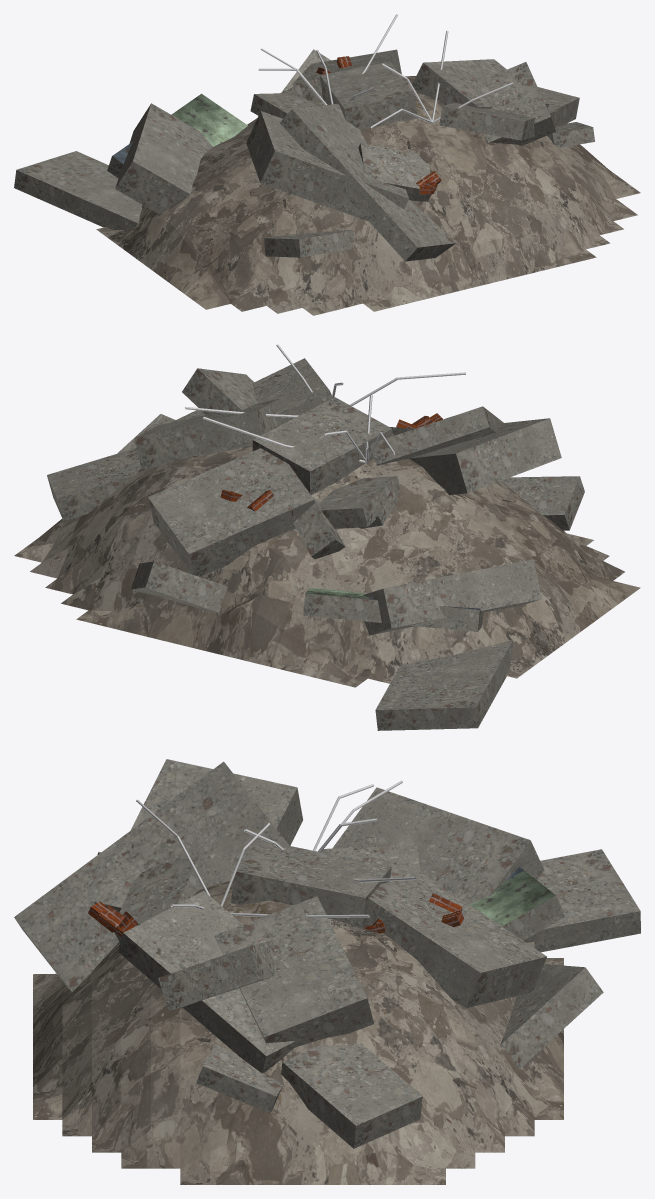
File: S1U_RubblePile_M.fbx
3 renders of one model, top to bottom at view 1: azimuth 30°, elevation 25°; view 2: azimuth 150°, elevation 25°; view 3: azimuth 270°, elevation 25°, orthographic. The views are drawn at different scales.
Parts seen in each view (by area): view 1: S1U_RubblePile_M; view 2: S1U_RubblePile_M; view 3: S1U_RubblePile_M.
Boxes of the visible parts, x1,y1,x2,y2 form: S1U_RubblePile_M: (14, 14, 640, 315); S1U_RubblePile_M: (14, 344, 640, 730); S1U_RubblePile_M: (14, 759, 640, 1184).
Size of the model in its own units: 5.53 by 1.93 by 4.72.
